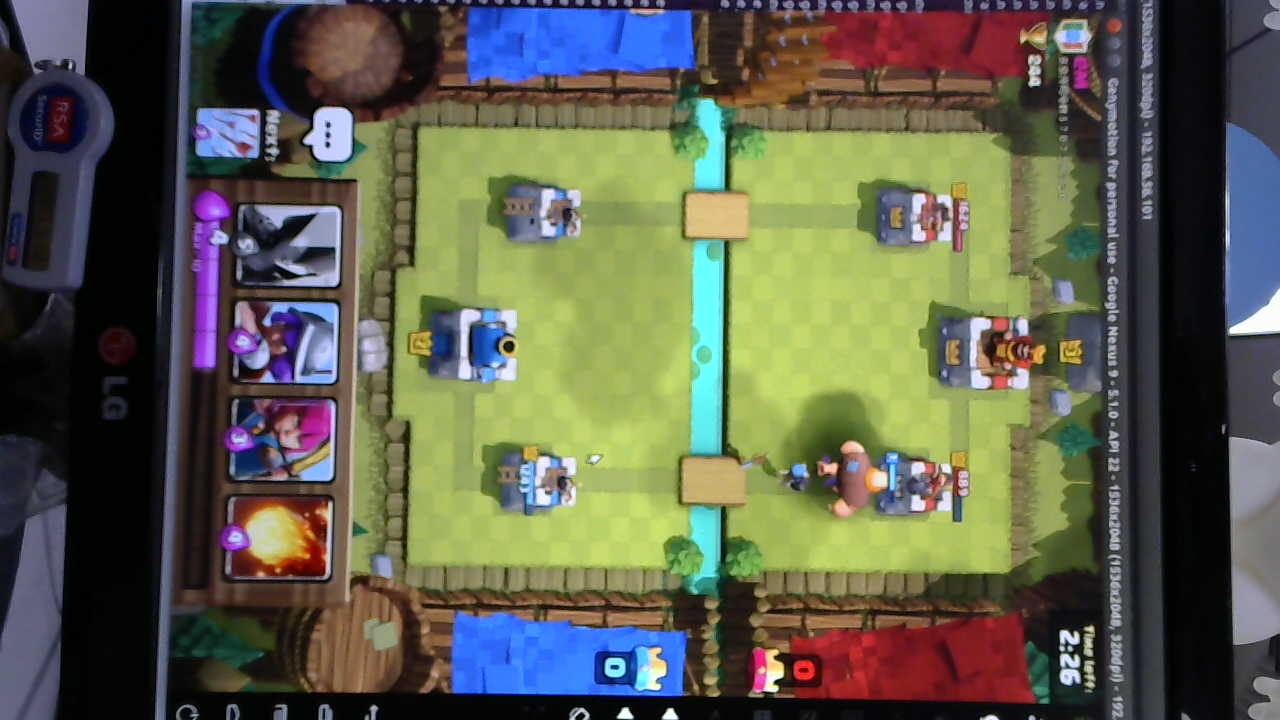arena: (500, 177, 583, 244), (501, 446, 581, 512)
bomb: (778, 457, 811, 497)
earena: (872, 183, 955, 250), (880, 455, 953, 520)
eking: (938, 309, 1038, 393)
giant: (823, 436, 884, 514)
king: (426, 302, 526, 384)
